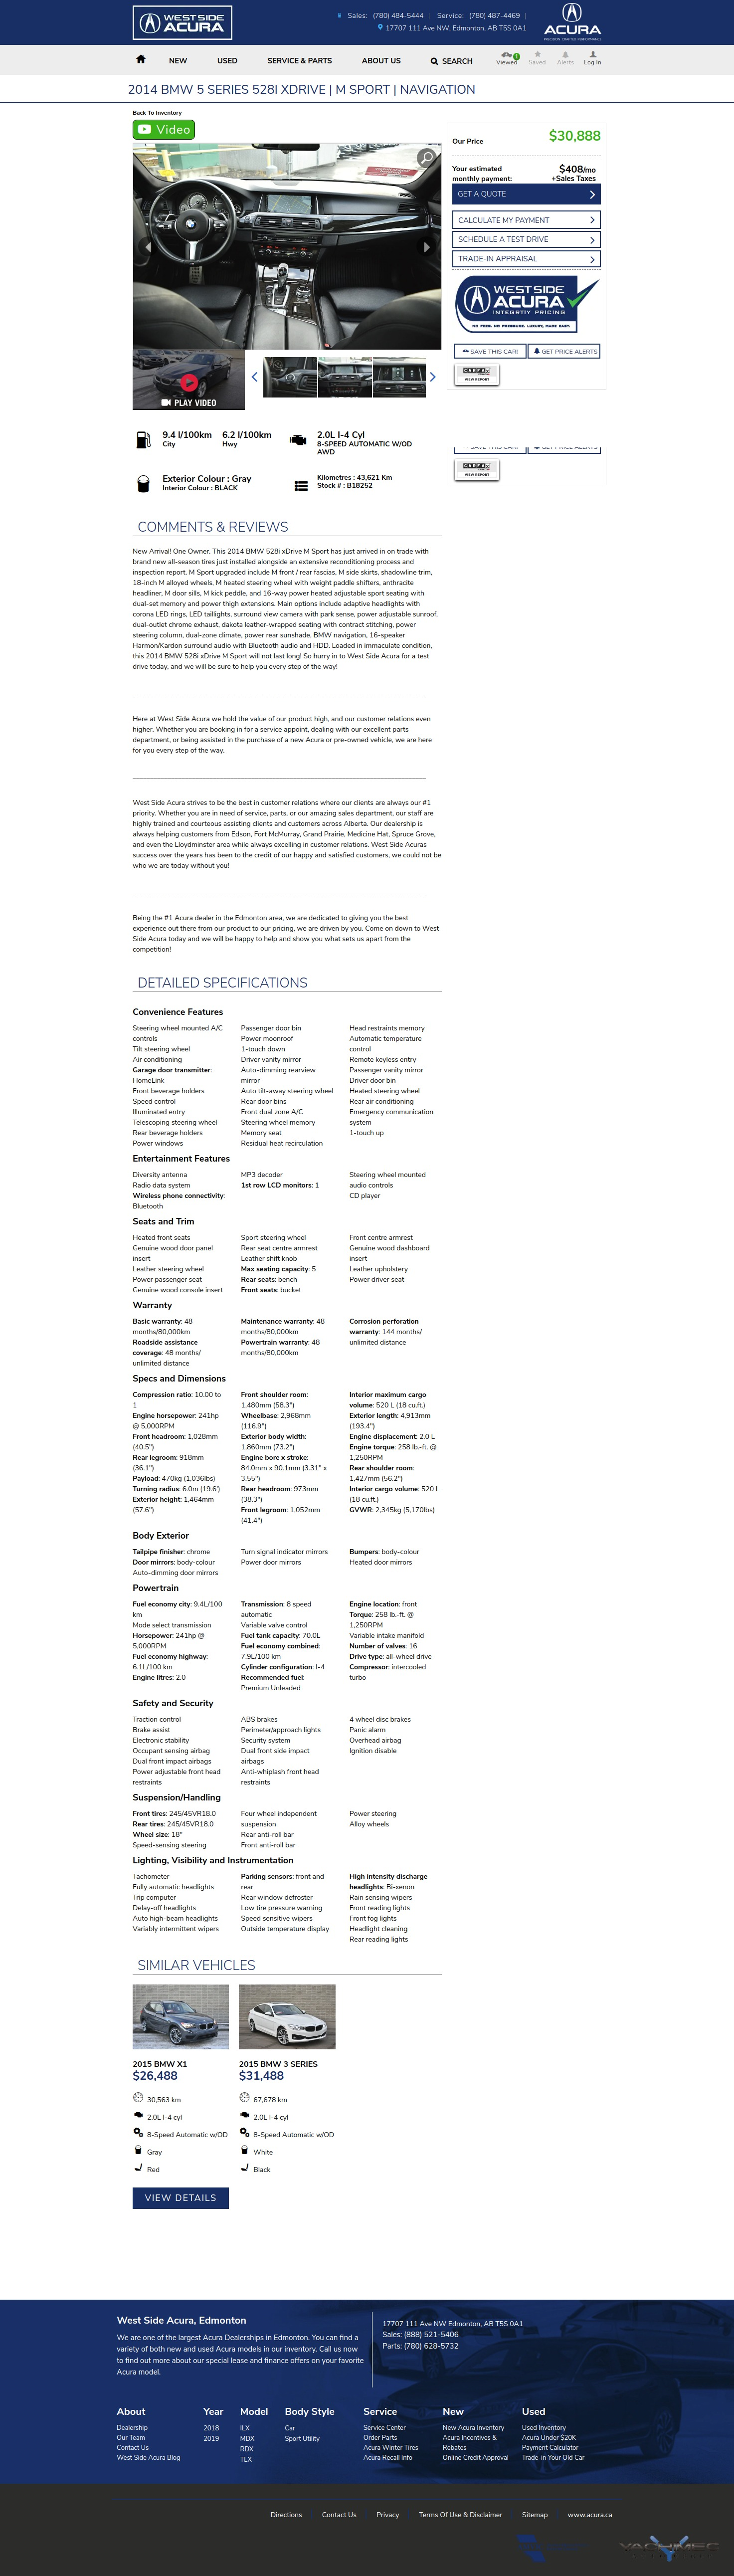car: (430, 371, 437, 383)
